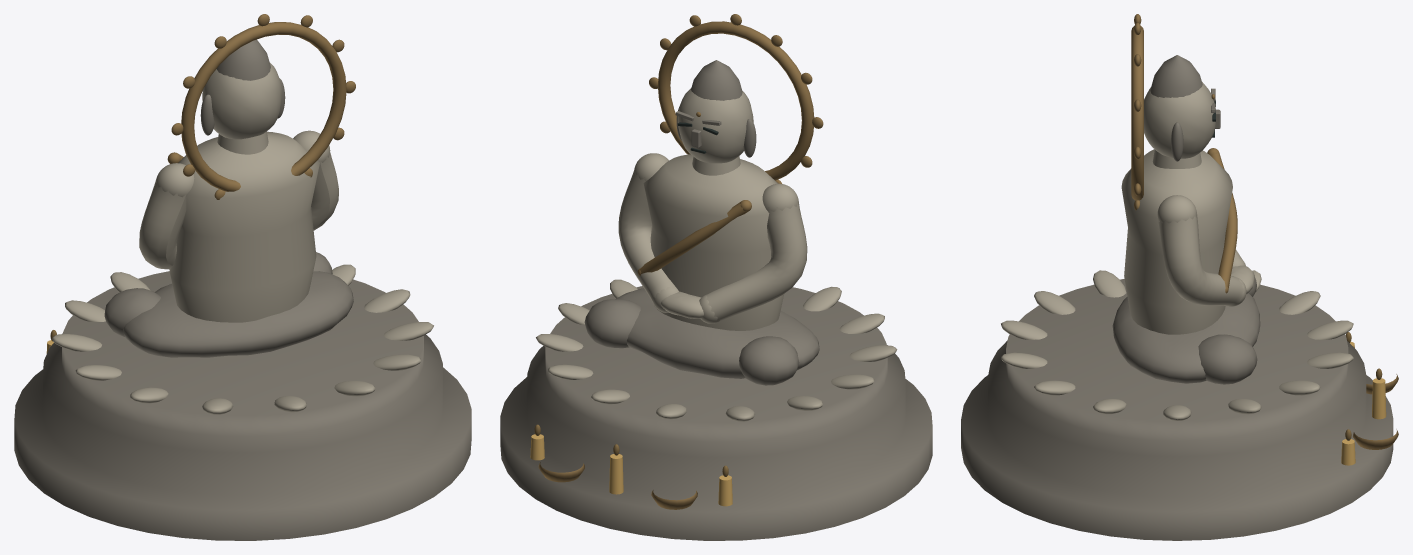
The model's file is detail_idol.glb.
3 renders of one model, left to right at view 1: azimuth 30°, elevation 25°; view 2: azimuth 150°, elevation 25°; view 3: azimuth 270°, elevation 25°, orthographic. The views are drawn at different scales.
Visible parts, largest first — view 1: plaster; view 2: plaster; view 3: plaster.
Boxes of the visible parts, x1=… form: plaster: x1=14, y1=14, x2=471, y2=540; plaster: x1=500, y1=14, x2=932, y2=540; plaster: x1=961, y1=14, x2=1398, y2=540.
Bounding box in the file's own units: 2.8 × 3 × 2.8.
